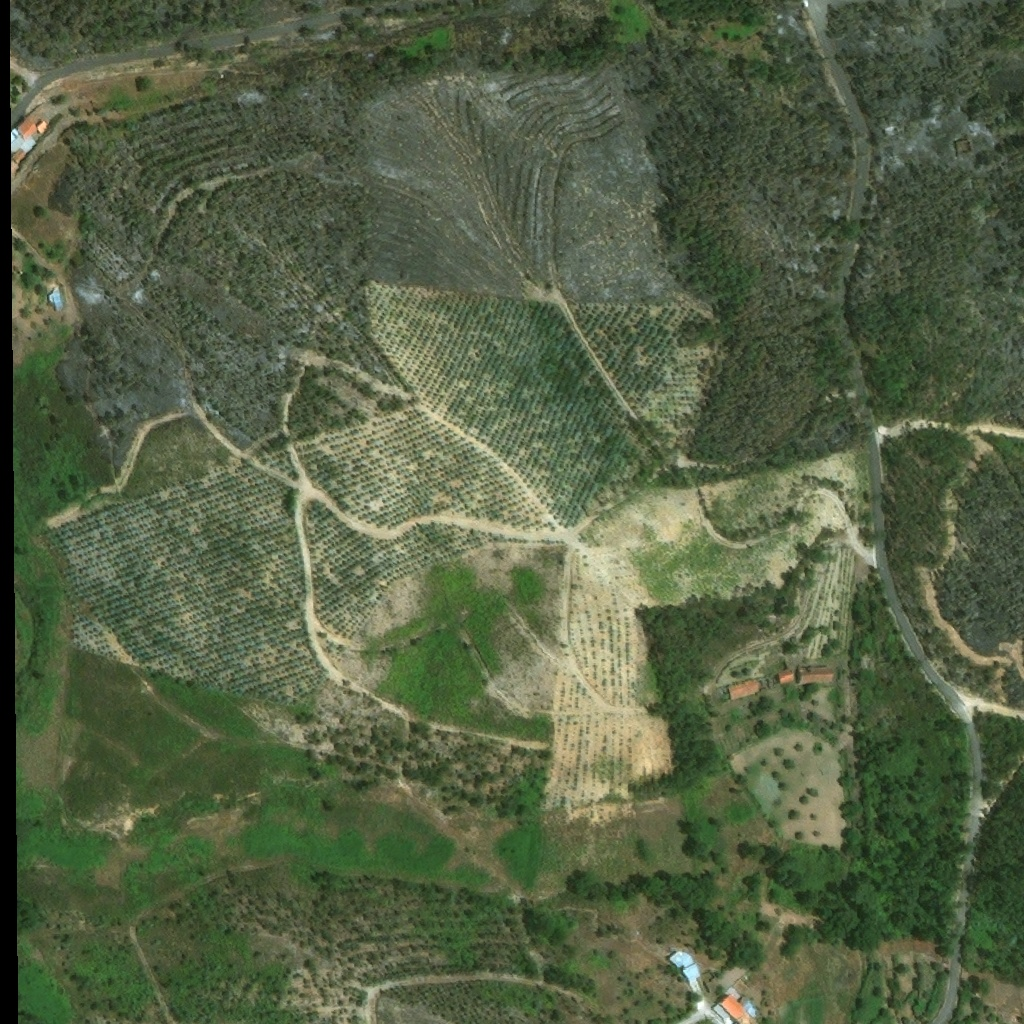0 no-damage: (710, 986, 763, 1023), (667, 947, 702, 983), (728, 677, 762, 700), (795, 666, 834, 685), (17, 115, 36, 140), (47, 287, 63, 313), (778, 670, 795, 685), (17, 147, 28, 165), (36, 120, 48, 135)
